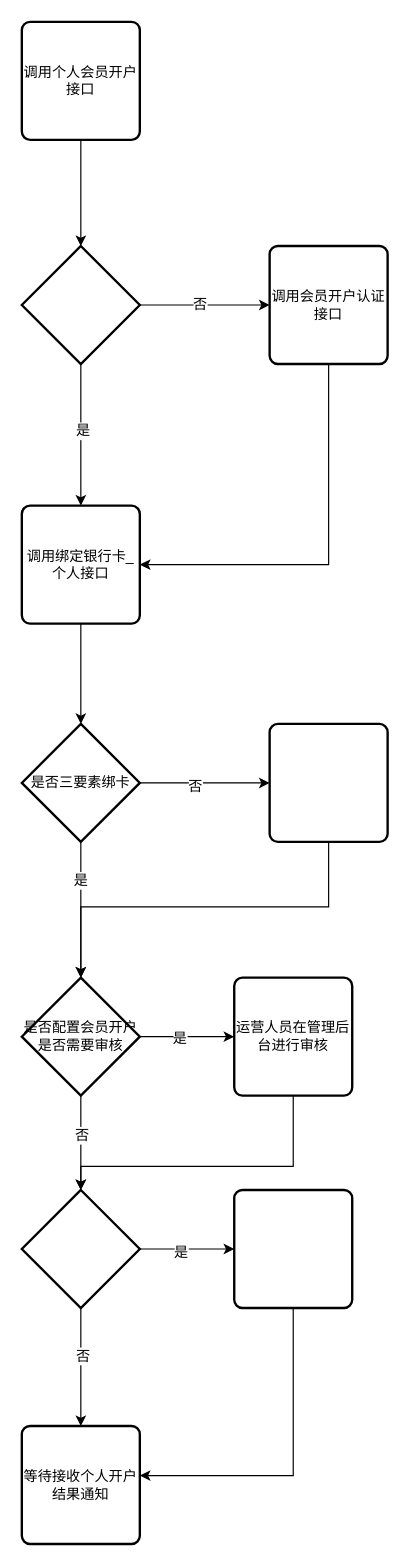
Image size: 408x1565. Some labels were removed from this diagram. Here are the shapes that lost their labels. From the top down, the centre of each, then its label:
At (80,304): "是否配置手机号码无需验证".
At (328,782): "调用确认绑定银行卡_个人接口".
At (80,1248): "是否配置需要进件".
At (292,1248): "进件人员进行审核".
